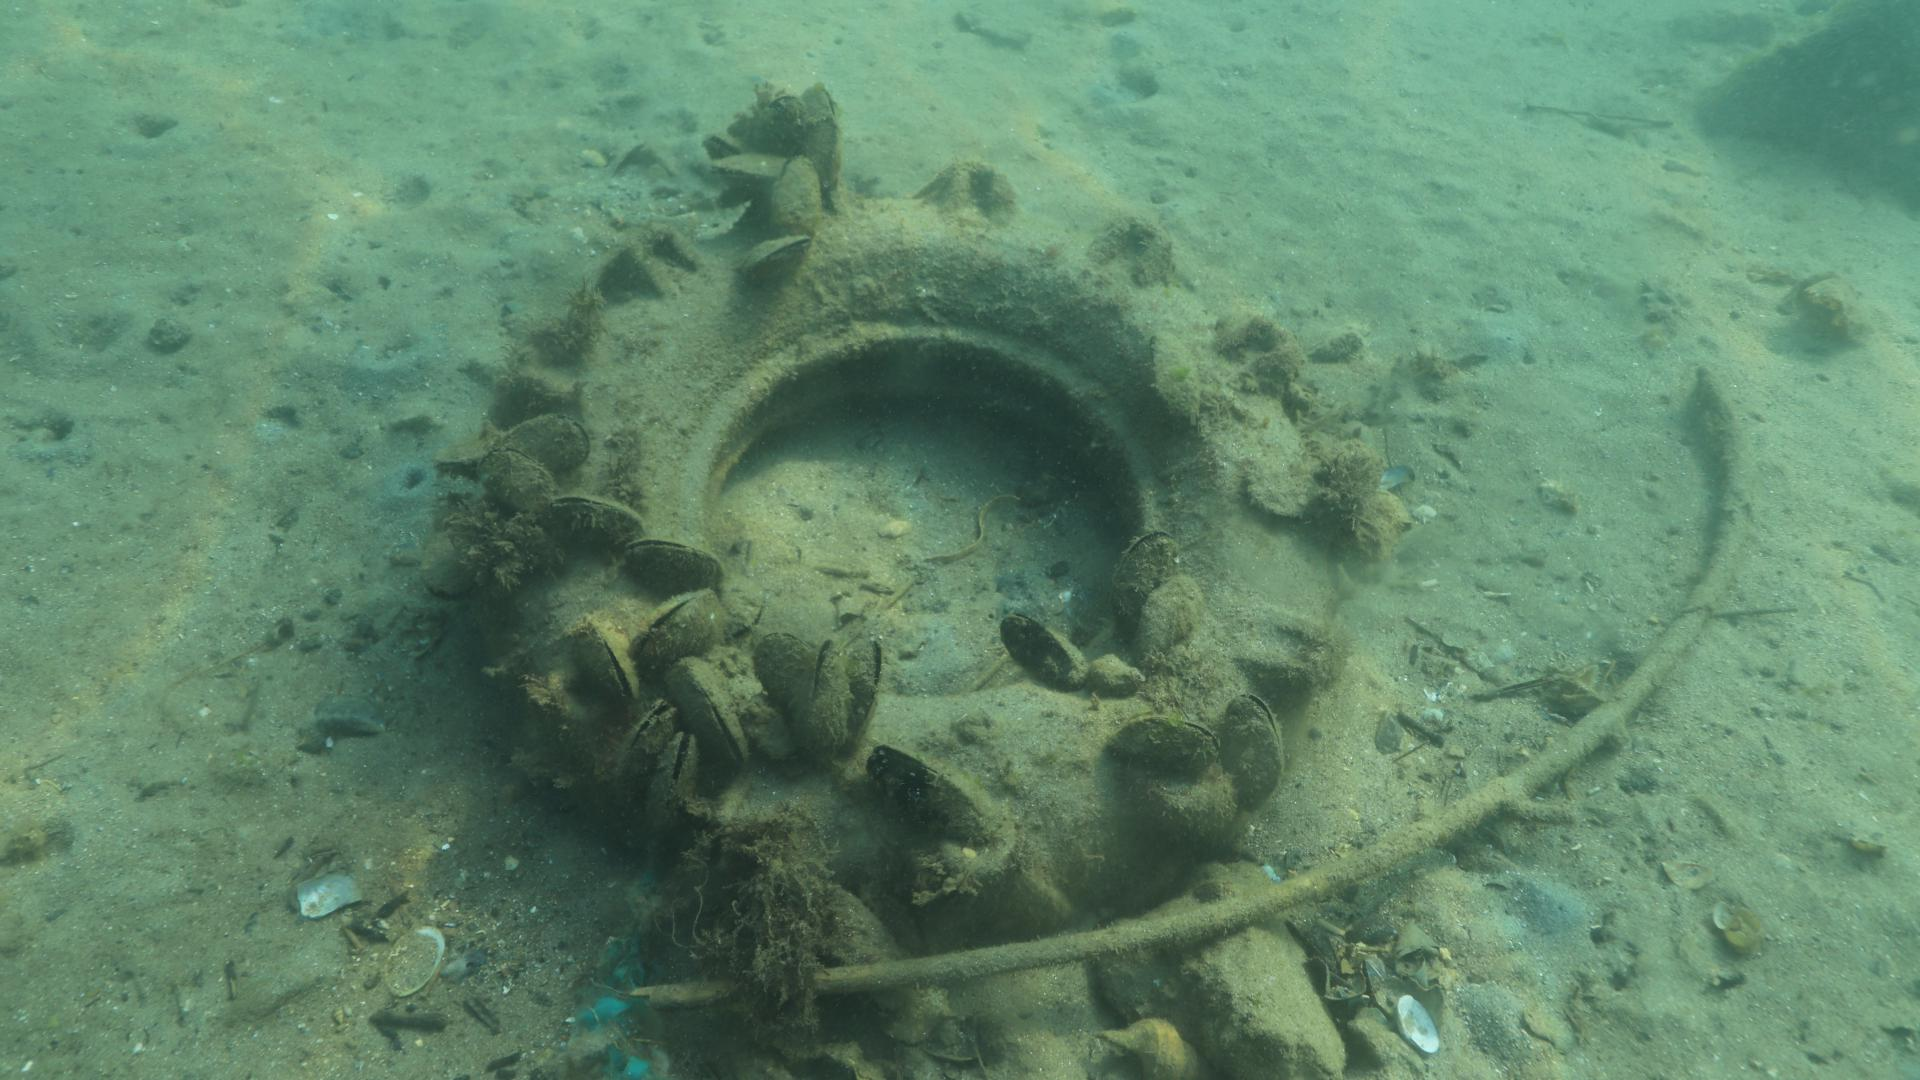tire: (485, 156, 1350, 945)
